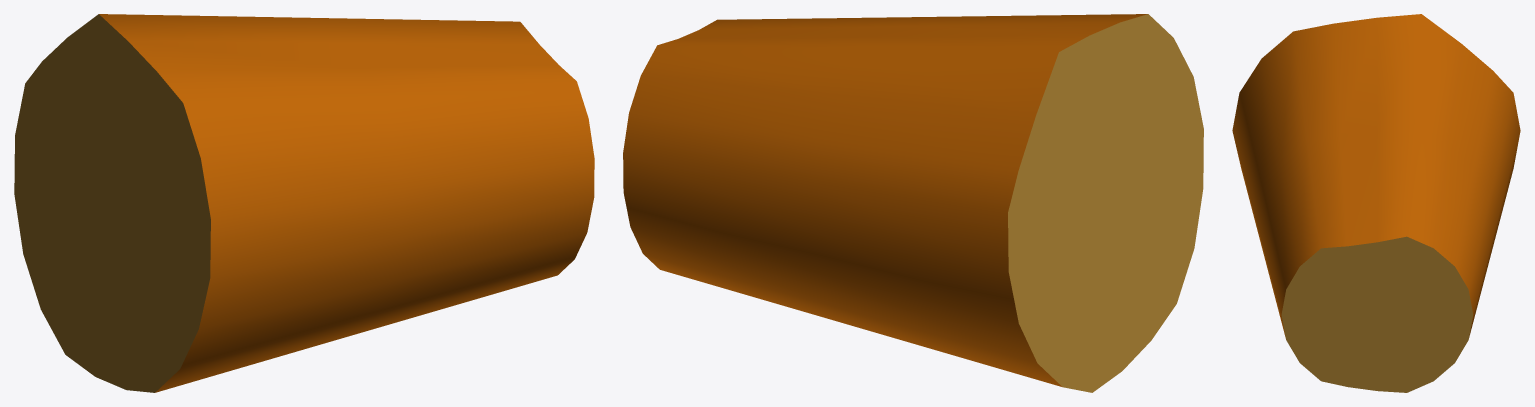
The model's file is mesh_CarrotSlice_Stage03.fbx.
3 renders of one model, left to right at view 1: azimuth 30°, elevation 25°; view 2: azimuth 150°, elevation 25°; view 3: azimuth 270°, elevation 25°, orthographic. The views are drawn at different scales.
Visible parts, largest first — view 1: mesh_CarrotSlice_Stage03; view 2: mesh_CarrotSlice_Stage03; view 3: mesh_CarrotSlice_Stage03.
Part boxes in pixels (box(x1,y1,x2,y2)): mesh_CarrotSlice_Stage03: box(14, 14, 594, 392); mesh_CarrotSlice_Stage03: box(623, 14, 1203, 392); mesh_CarrotSlice_Stage03: box(1232, 14, 1520, 392).
Size of the model in its own units: 0.0176 by 0.0126 by 0.0134.
